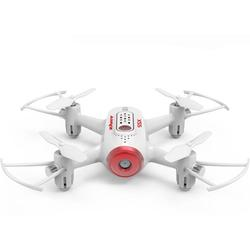drone: (1, 85, 250, 196)
